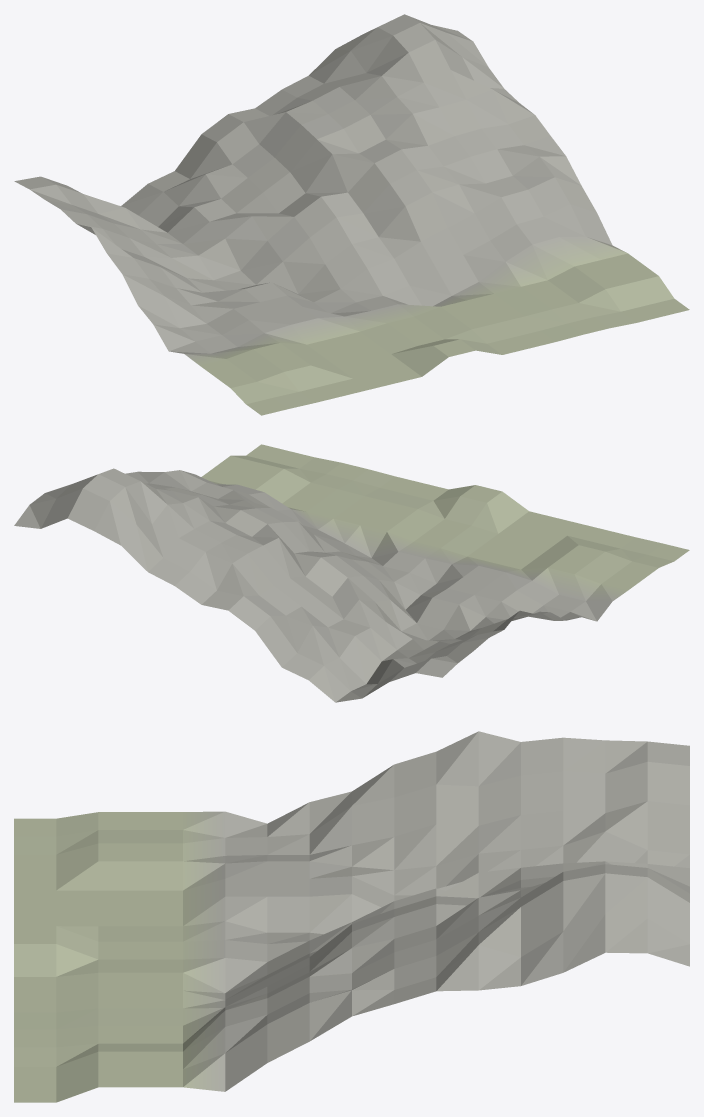
3 views of the same model, one above another, from view 1: azimuth 30°, elevation 25°; view 2: azimuth 150°, elevation 25°; view 3: azimuth 270°, elevation 25° (orthographic). The views are drawn at different scales.
Bounding box in the file's own units: 32 × 10.93 × 32.
